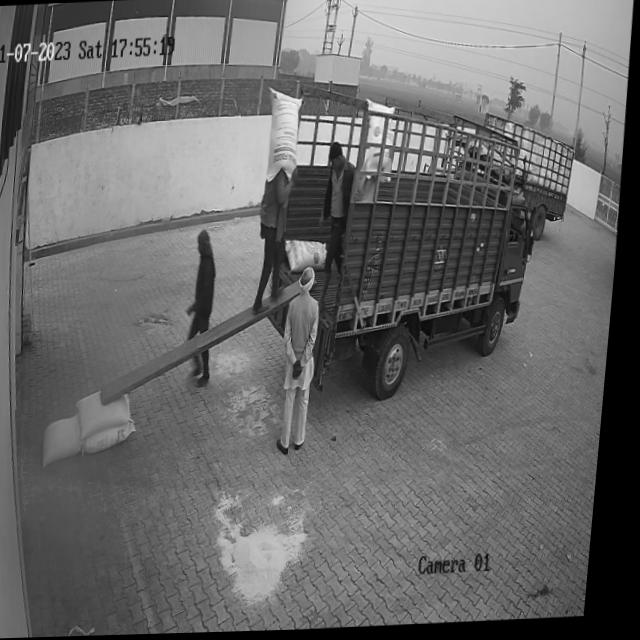sack: (265, 87, 306, 184), (82, 391, 139, 438), (48, 415, 91, 467), (286, 238, 333, 276), (89, 421, 143, 454)
